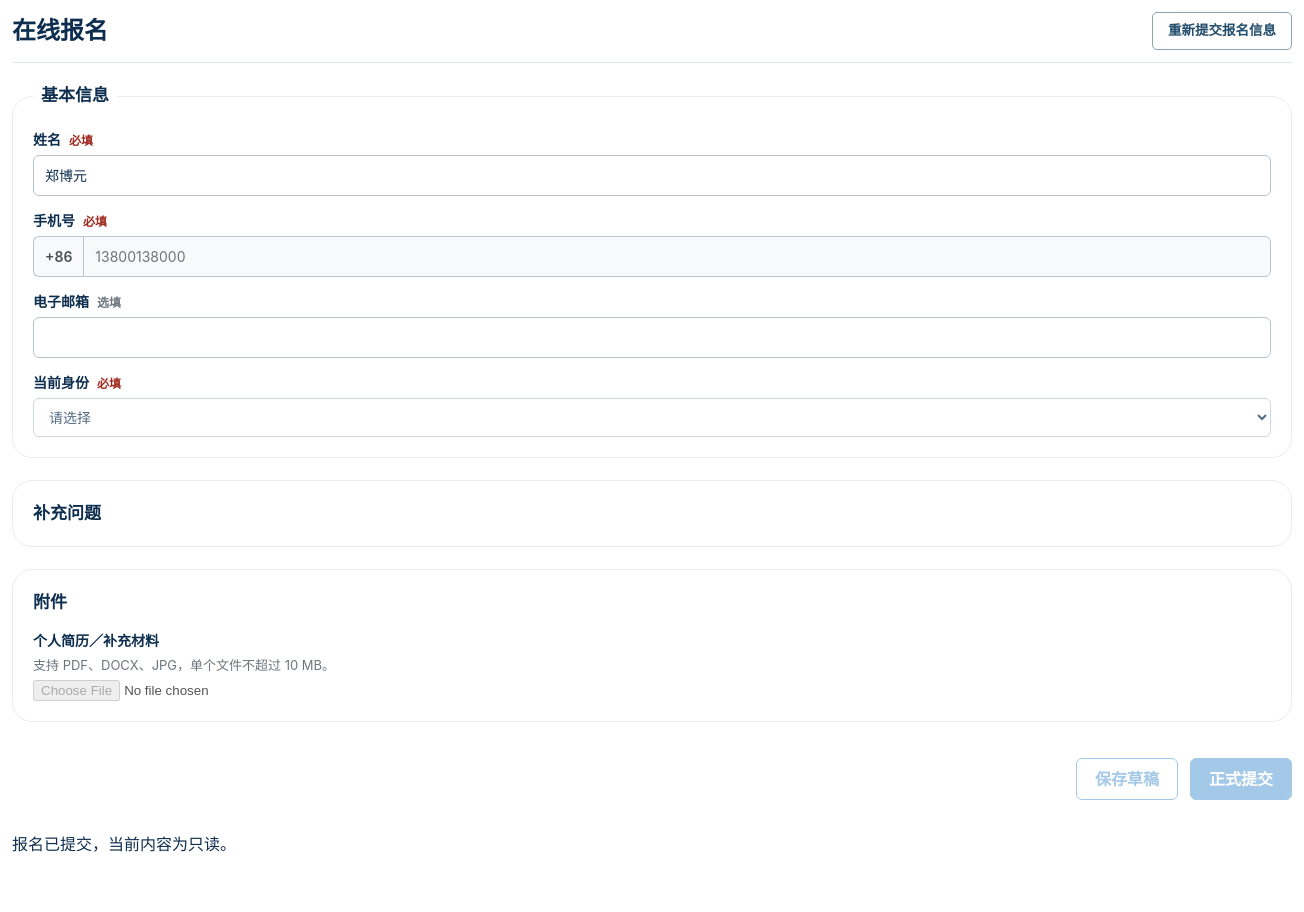
Test: registration route navigation guard › reopens a submitted application with every saved value preserved and editable
This screenshot has width=1304, height=912.
Expected: the heading "在线报名" is shown, [12,12,108,50]
Click the button "重新提交报名信息" at (1222, 31), box [1152,12,1292,50]
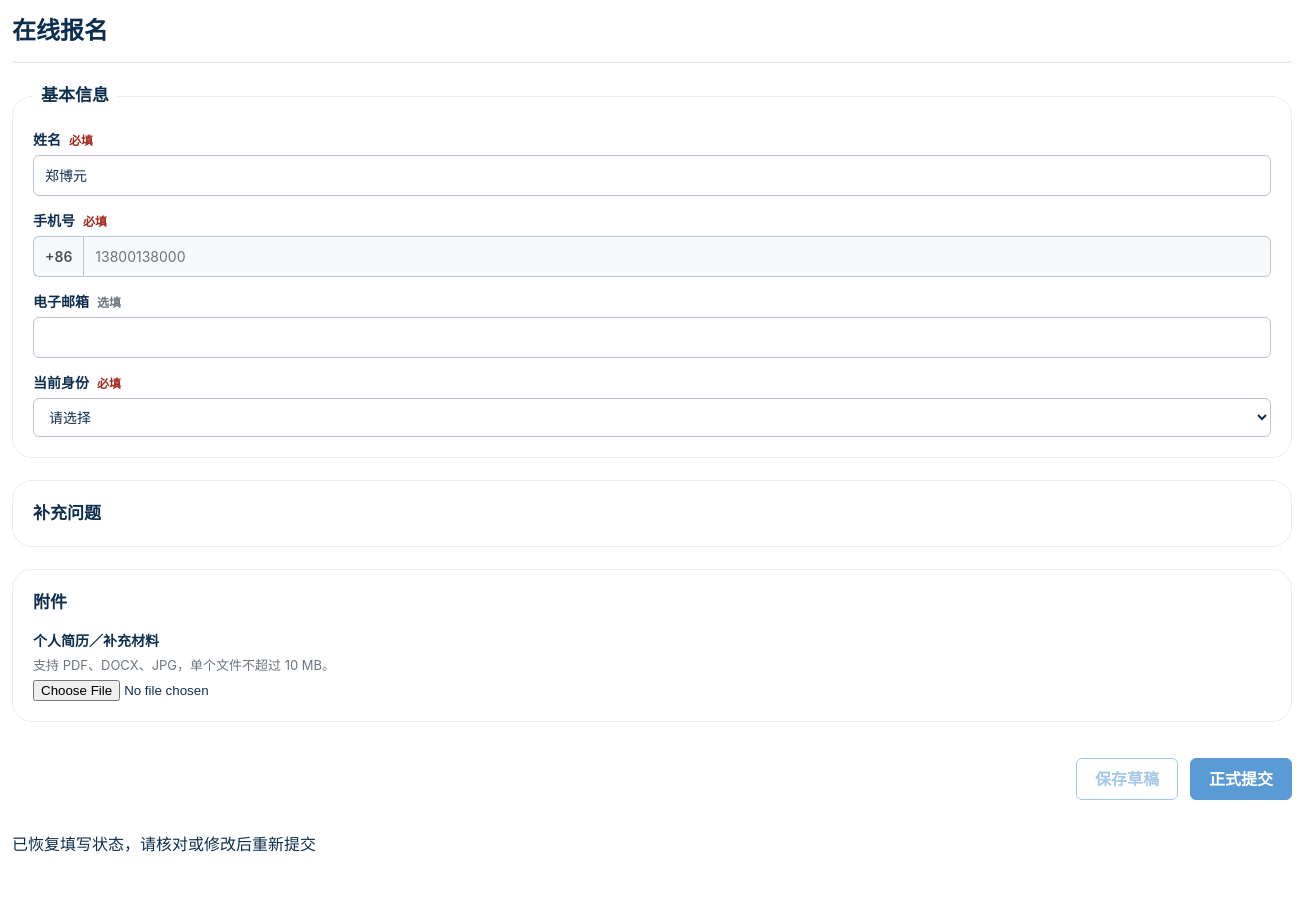
Expected: the field labelled "姓名" holds "郑博元", [33,155,1271,196]
Expected: the button "正式提交" is enabled, [1190,758,1292,800]
